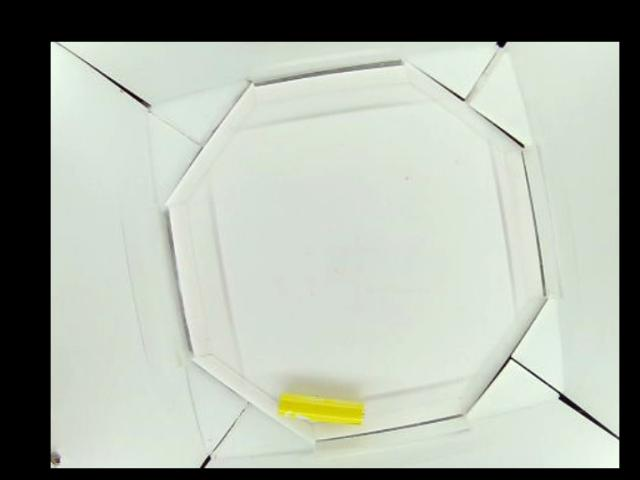Battery: (273, 391, 366, 424)
